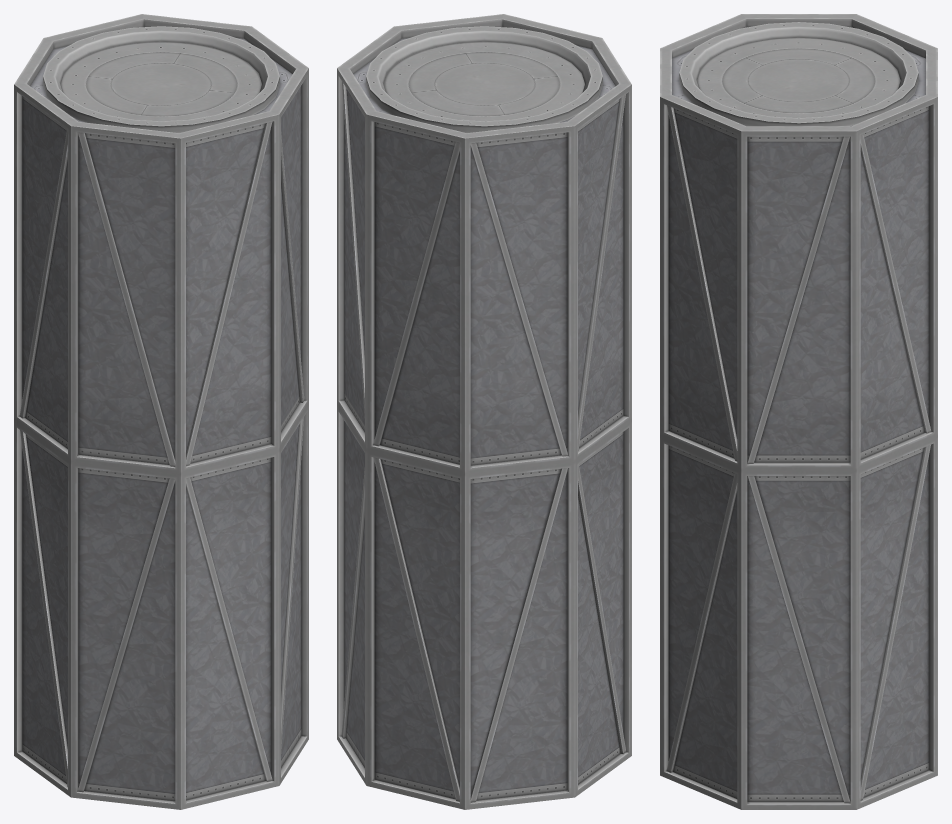
File: Nashira_Truss_1_1.obj
3 views of the same model, side by side, from view 1: azimuth 30°, elevation 25°; view 2: azimuth 150°, elevation 25°; view 3: azimuth 270°, elevation 25° (orthographic).
Parts seen in each view (by area): view 1: Nashira_Truss_1_1; view 2: Nashira_Truss_1_1; view 3: Nashira_Truss_1_1.
Part boxes in pixels (<box>): Nashira_Truss_1_1: <box>14,14,308,809</box>; Nashira_Truss_1_1: <box>337,14,631,809</box>; Nashira_Truss_1_1: <box>660,14,937,809</box>.
Bounding box in the file's own units: 1.45 × 3.91 × 1.45.
